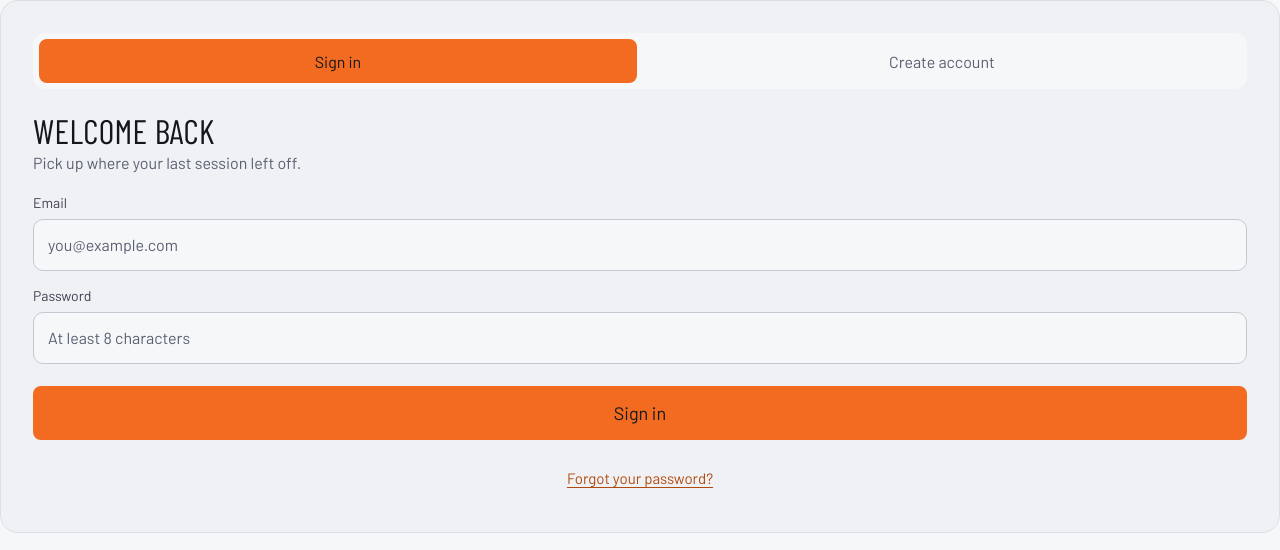
AuthForm › creates an account and shows the server message
Click the tab "Create account". click: (942, 61)
box: [643,39,1241,83]
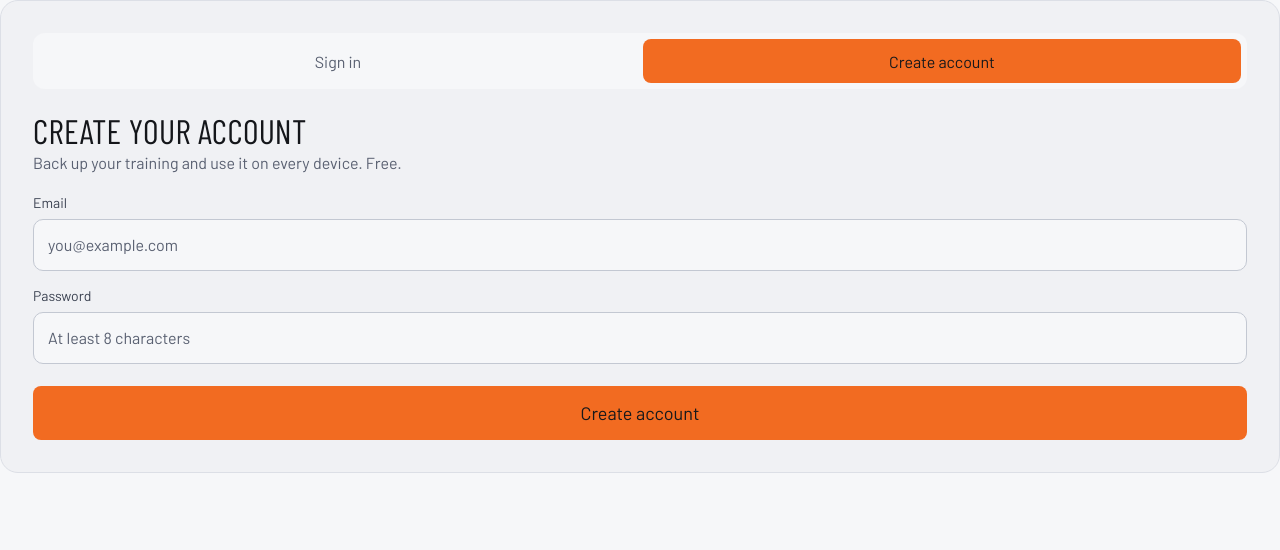
Type "me@example.com" into the field labelled "Email". click: (640, 245)
box: [33,219,1247,271]
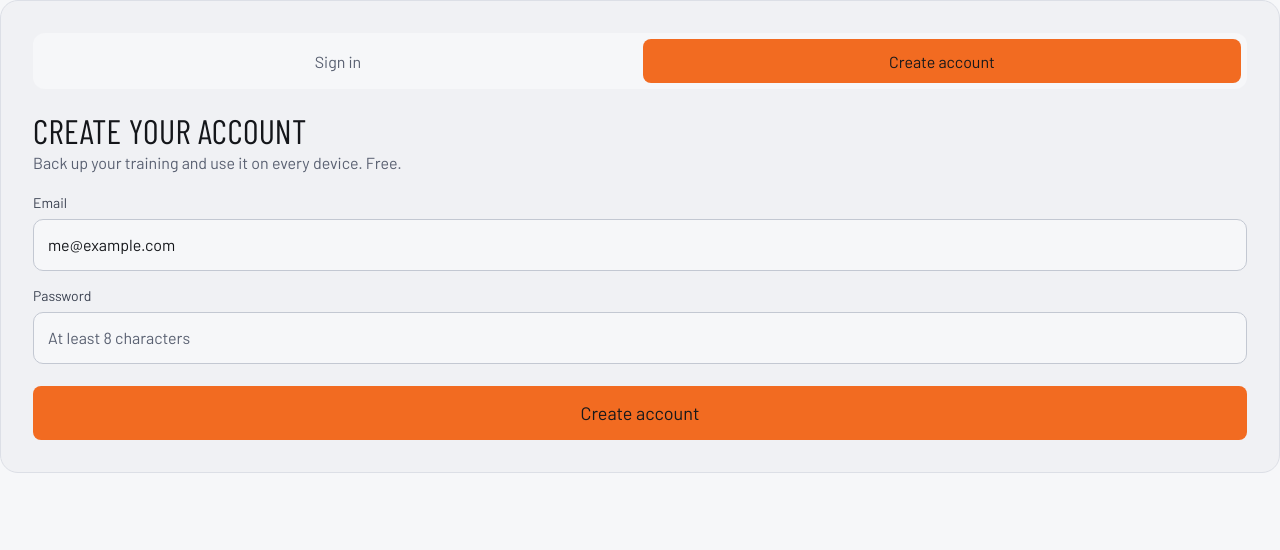
Type "secret123" into the password field labelled "Password". click: (640, 338)
box: [33,312,1247,364]
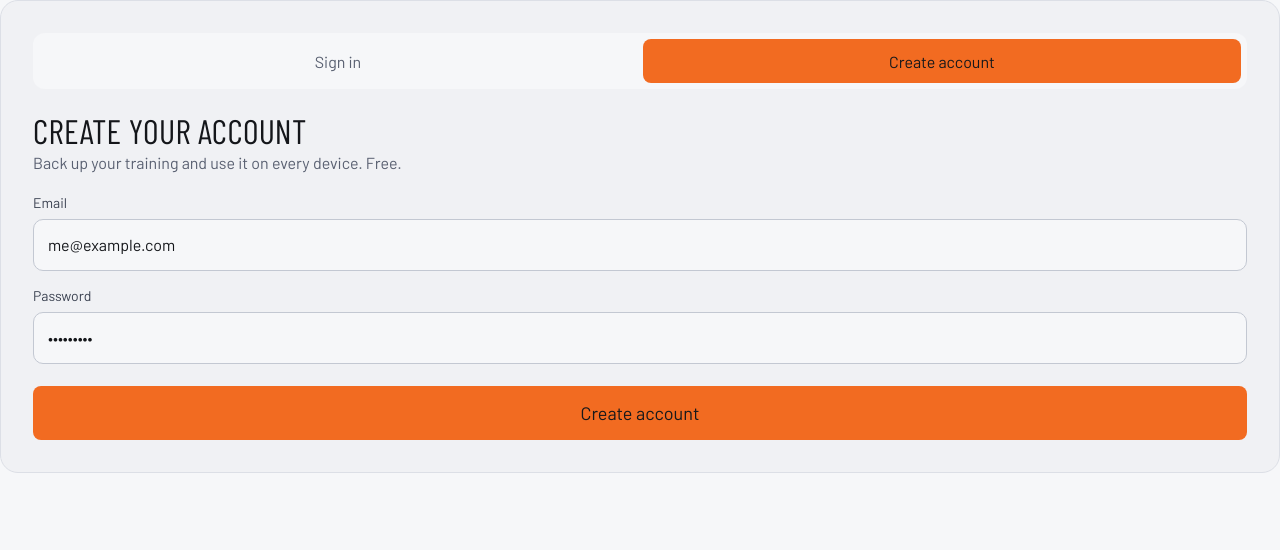
Submit the form labelled "Email", box [33,194,1247,440]
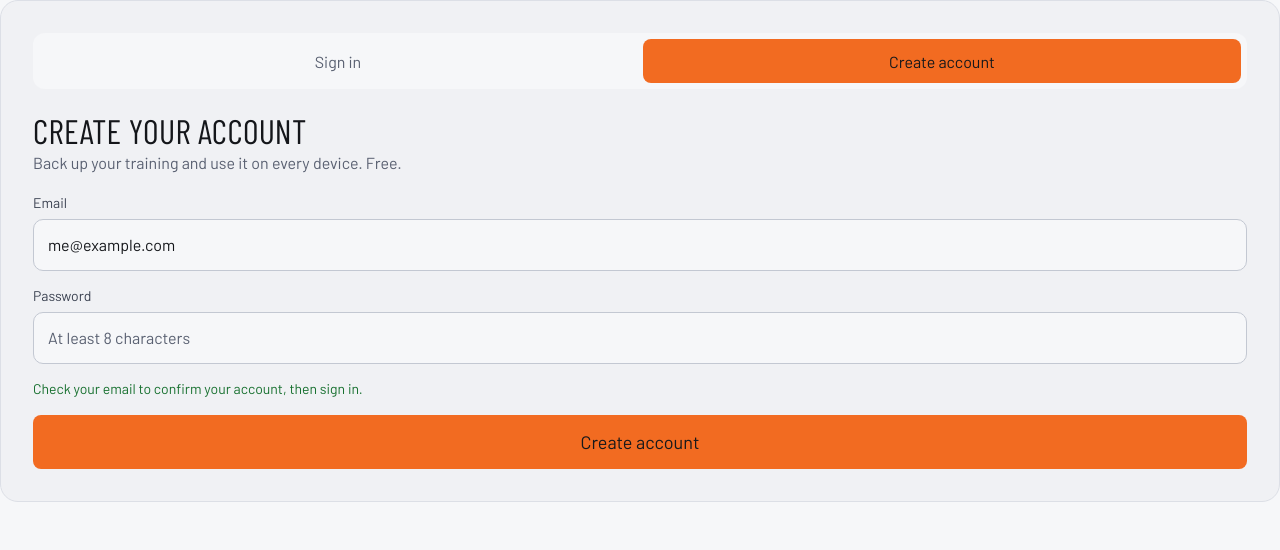
expect the message shows "Check your email": met, box [33,380,363,397]
